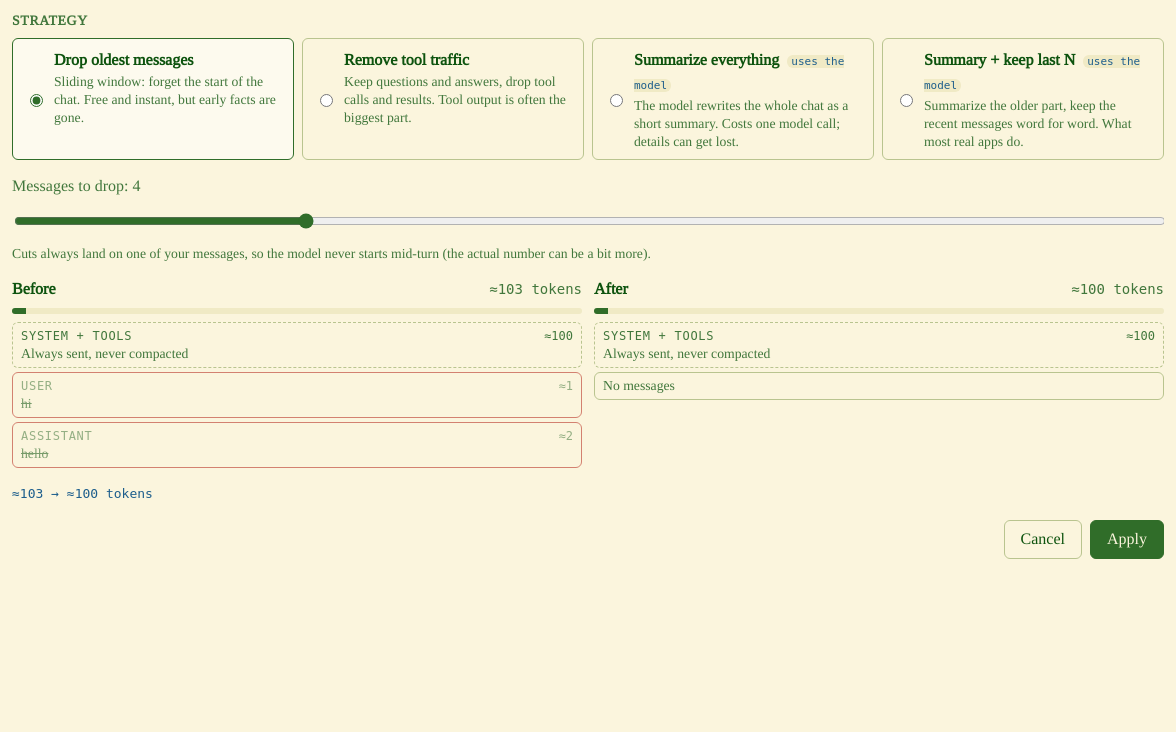
Test case: nothing to remove → Apply disabled
Click the radio button labelled "Remove tool traffic" at point(326, 100), box [320,50,333,151]
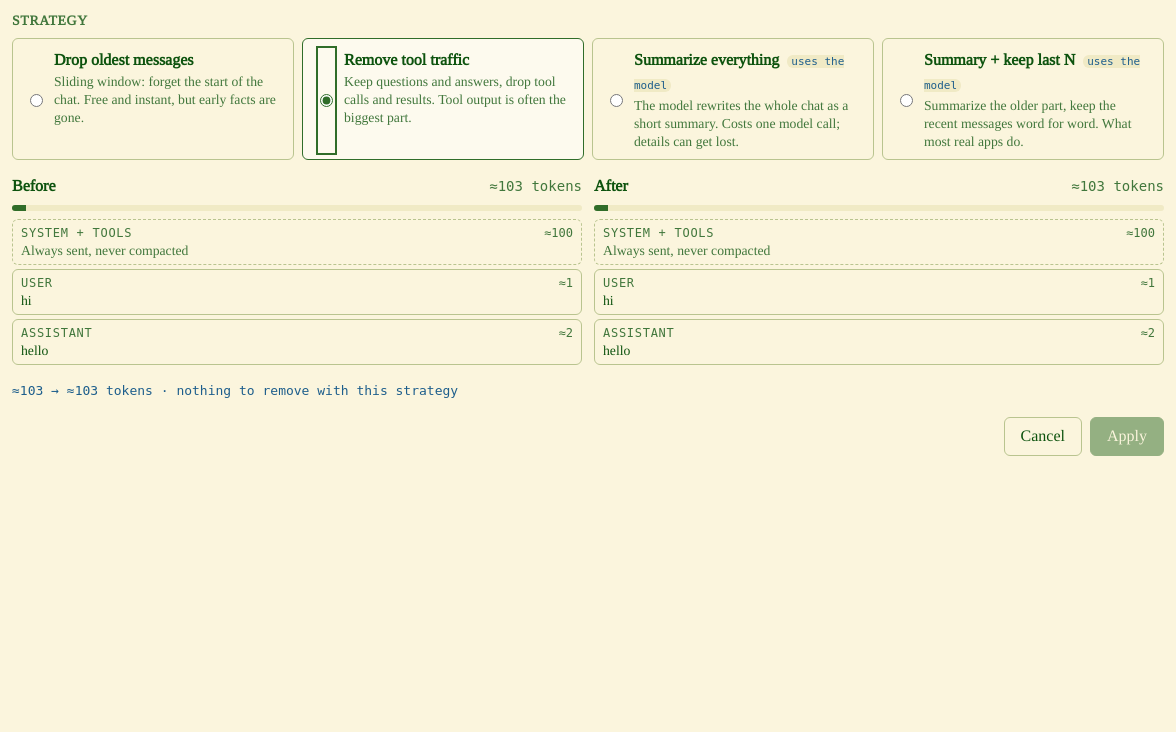
Result: the text "≈103 → ≈103 tokens · nothing to remove with this strategy" is shown at [12,383,458,398]
Result: the button "Apply" is disabled at [1090,416,1164,456]
